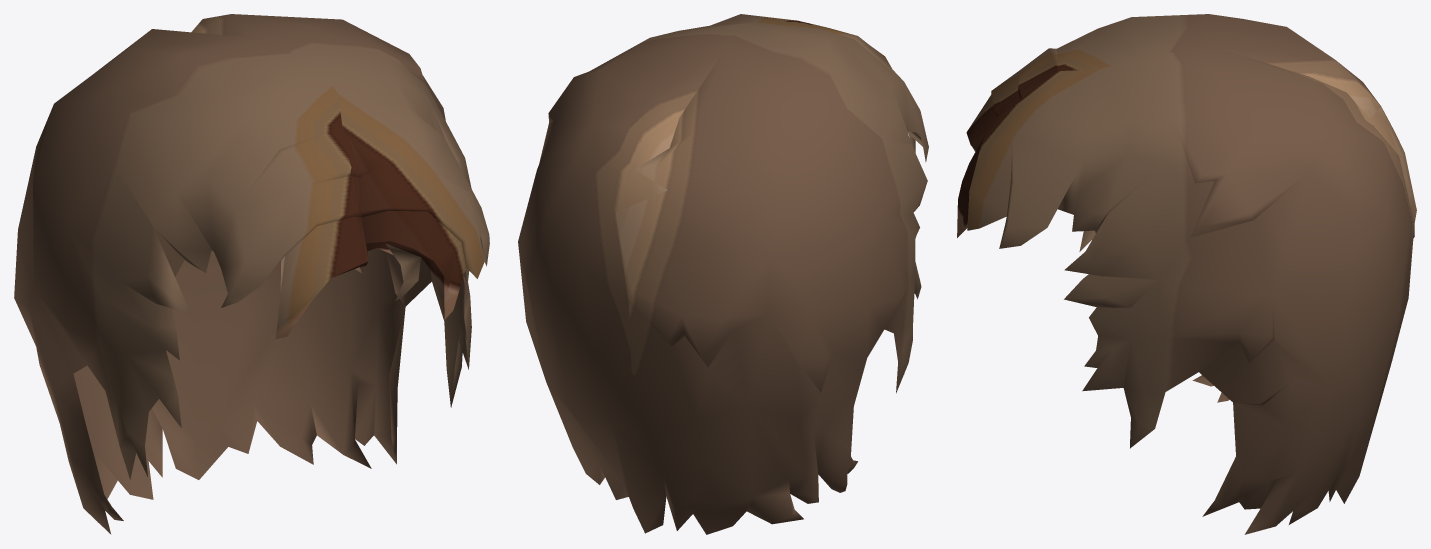
Rendered from uHair_040.fbx.
3 views of the same model, side by side, from view 1: azimuth 30°, elevation 25°; view 2: azimuth 150°, elevation 25°; view 3: azimuth 270°, elevation 25° (orthographic). The views are drawn at different scales.
Parts seen in each view (by area): view 1: hair_patient40; view 2: hair_patient40; view 3: hair_patient40.
Part boxes in pixels (bbox=[...]): hair_patient40: bbox=[14, 14, 489, 534]; hair_patient40: bbox=[518, 14, 928, 534]; hair_patient40: bbox=[957, 14, 1416, 534].
Size of the model in its own units: 18.48 by 22.76 by 21.01.
